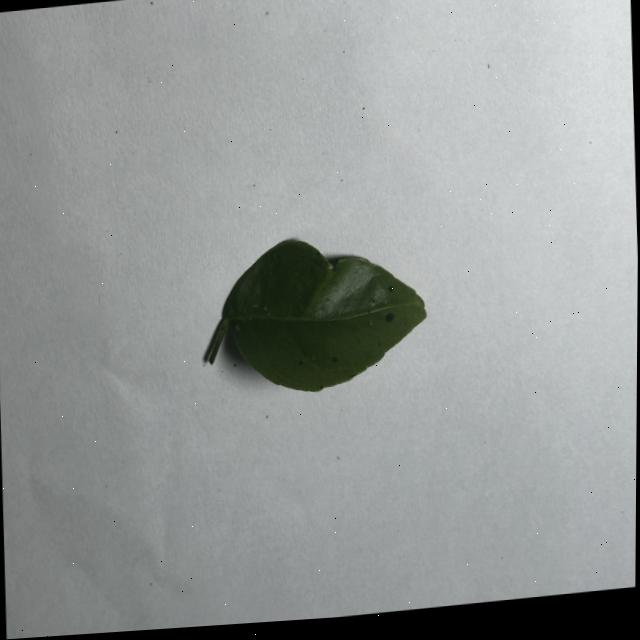sooty_mold: (208, 239, 426, 390)
